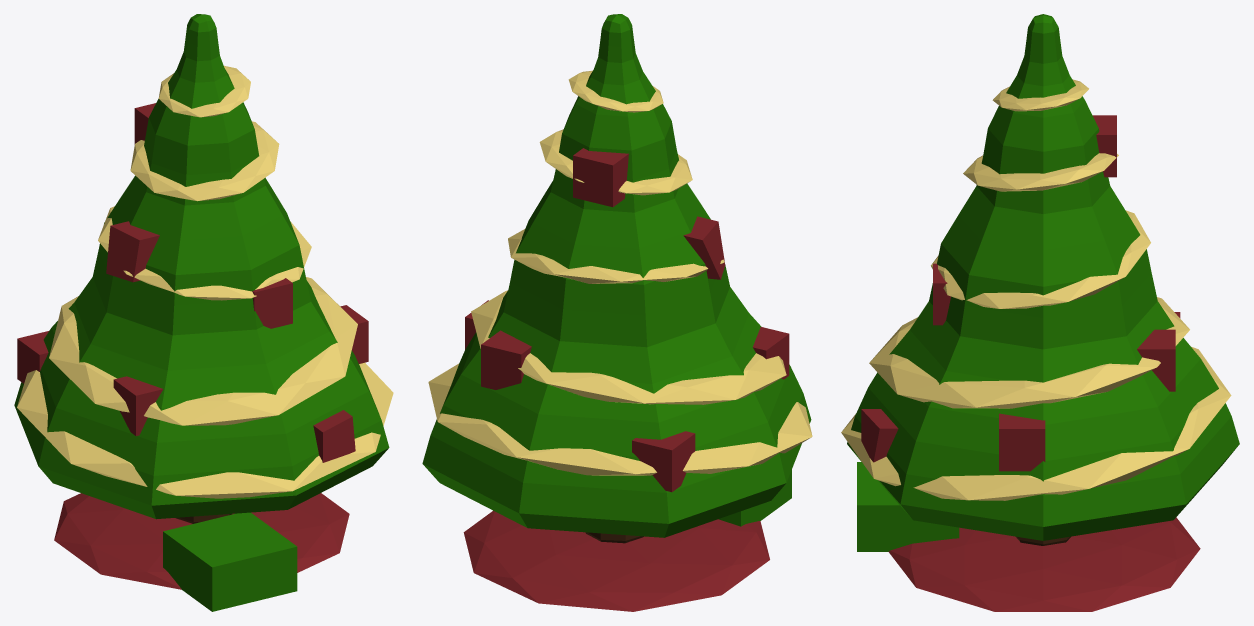
Rendered from Tree.fbx.
The picture shows the model from 3 angles, left to right: view 1: azimuth 30°, elevation 25°; view 2: azimuth 150°, elevation 25°; view 3: azimuth 270°, elevation 25°; orthographic projection. The views are drawn at different scales.
Parts seen in each view (by area): view 1: Tree; view 2: Tree; view 3: Tree.
Boxes of the visible parts, bbox=[...] form: Tree: bbox=[14, 14, 393, 611]; Tree: bbox=[422, 14, 812, 611]; Tree: bbox=[841, 14, 1239, 611].
Bounding box in the file's own units: 96.42 × 145 × 97.83.
